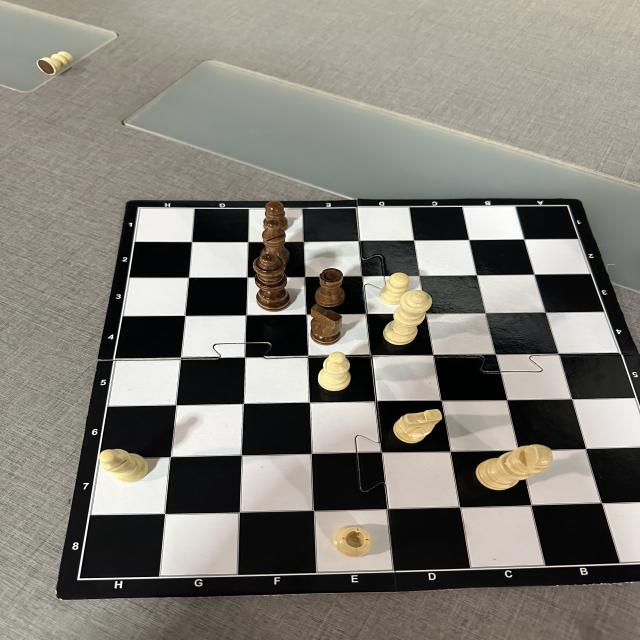Black-Bishop: (260, 220, 289, 263)
Black-Knight: (310, 305, 342, 345)
Black-Pawn: (263, 202, 289, 231)
Black-Queen: (252, 253, 290, 312)
Black-Rook: (314, 268, 344, 307)
White-Bishop: (100, 448, 149, 482), (318, 352, 352, 392)
White-King: (477, 444, 553, 490)
White-Knight: (393, 408, 441, 444)
White-Pawn: (380, 272, 410, 305), (37, 51, 72, 75)
White-Queen: (382, 290, 432, 345)
White-Rook: (336, 526, 370, 558)
